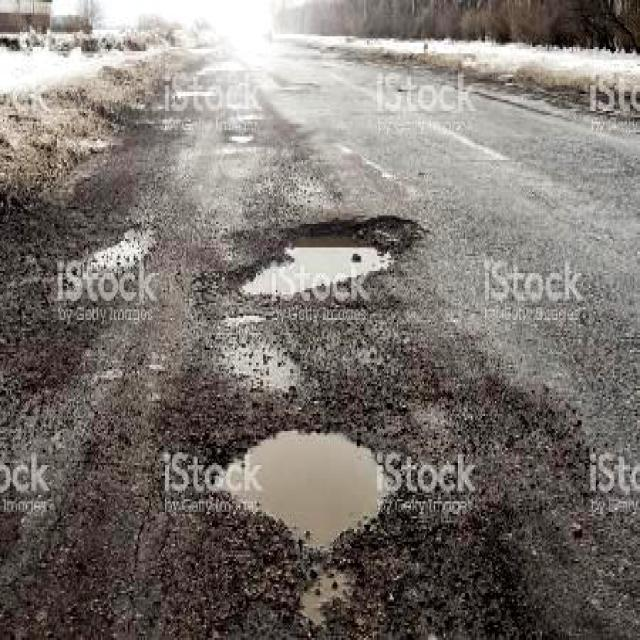pothole: (216, 420, 398, 546), (222, 209, 419, 301), (85, 215, 155, 278), (223, 128, 258, 149)
